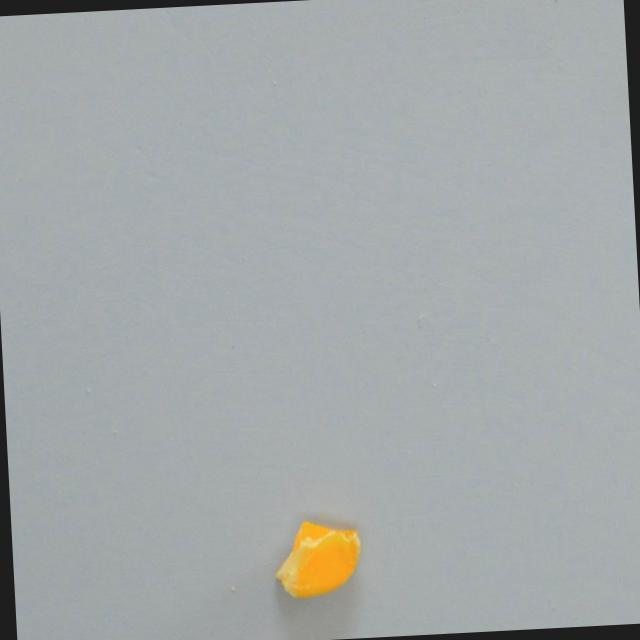pelicula: (273, 514, 367, 603)
